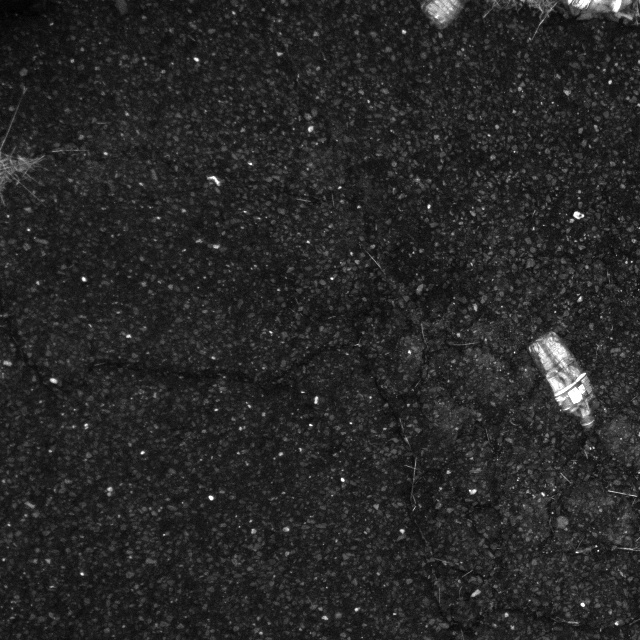bottle: (532, 333, 609, 420)
